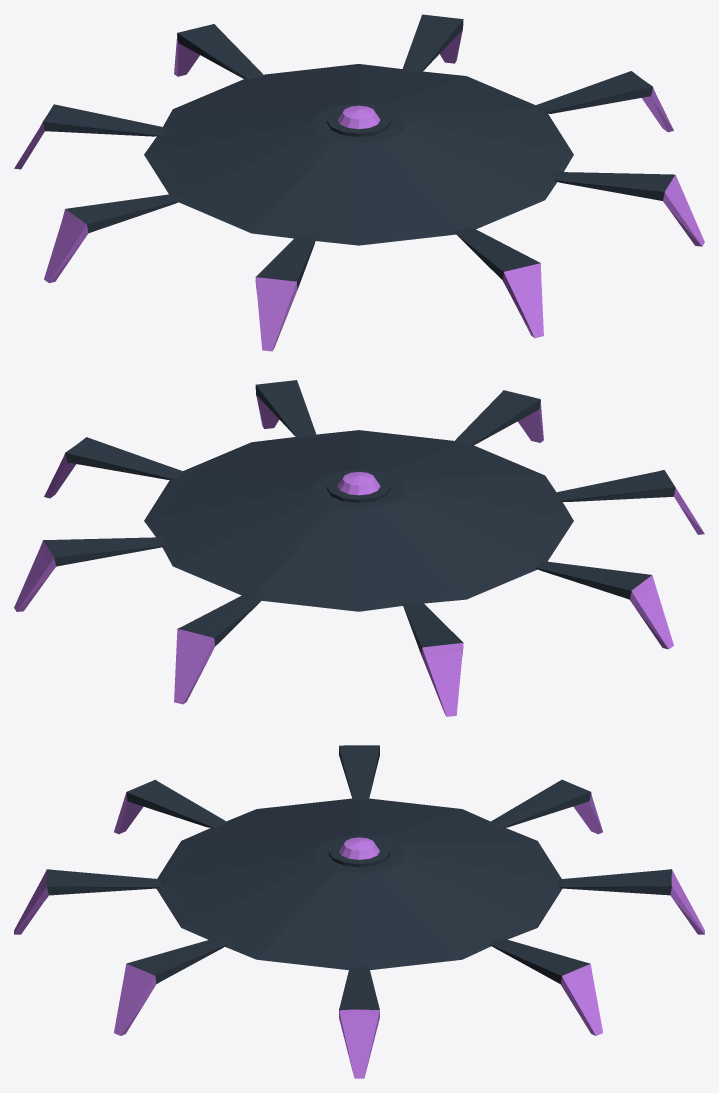
The model's file is Spider_Plant_000003.obj.
The picture shows the model from 3 angles, top to bottom: view 1: azimuth 30°, elevation 25°; view 2: azimuth 150°, elevation 25°; view 3: azimuth 270°, elevation 25°; orthographic projection. The views are drawn at different scales.
Visible parts, largest first — view 1: Circle_Circle.001; view 2: Circle_Circle.001; view 3: Circle_Circle.001.
Boxes of the visible parts, left/top/right/bottom form: Circle_Circle.001: left=14, top=14, right=704, bottom=351; Circle_Circle.001: left=14, top=380, right=704, bottom=716; Circle_Circle.001: left=14, top=745, right=704, bottom=1078.
Size of the model in its own units: 3.36 by 0.49 by 3.36.
